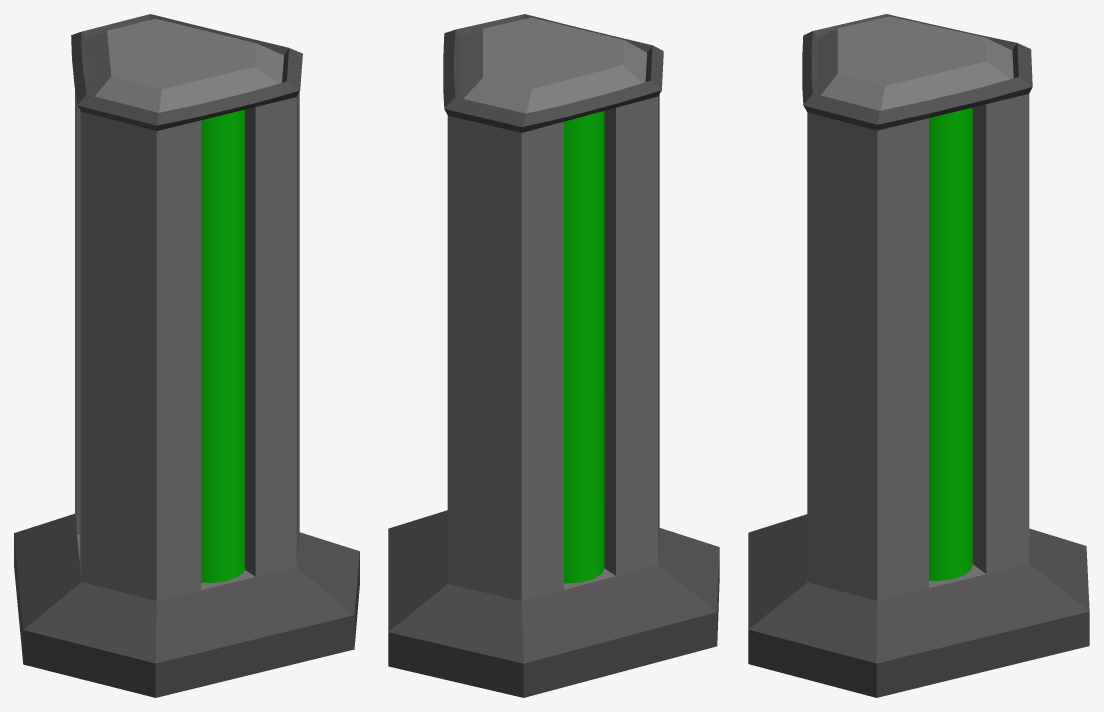
The model's file is Robot_Pillar_Bottom.fbx.
3 views of the same model, side by side, from view 1: azimuth 30°, elevation 25°; view 2: azimuth 150°, elevation 25°; view 3: azimuth 270°, elevation 25° (orthographic).
Parts seen in each view (by area): view 1: polySurface86, pCylinder61; view 2: polySurface86, pCylinder63; view 3: polySurface86, pCylinder62.
Part boxes in pixels (box(x1,y1,x2,y2)): polySurface86: box(14, 14, 359, 697); pCylinder61: box(201, 109, 244, 582); polySurface86: box(388, 14, 719, 697); pCylinder63: box(564, 111, 604, 583); polySurface86: box(748, 14, 1089, 697); pCylinder62: box(929, 107, 972, 580).
Size of the model in its own units: 1.85 by 1.64 by 2.99.
